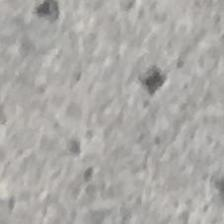Non_Crack: (13, 3, 224, 224)
